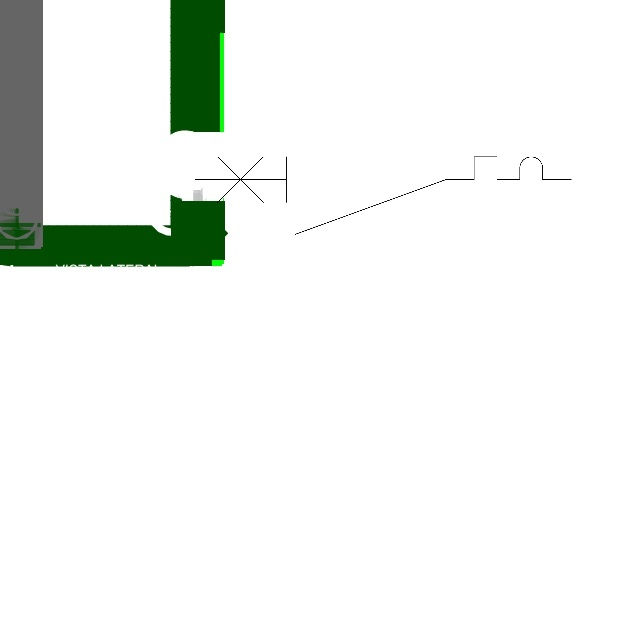interruptor_termomagnetico: (185, 147, 581, 244)
